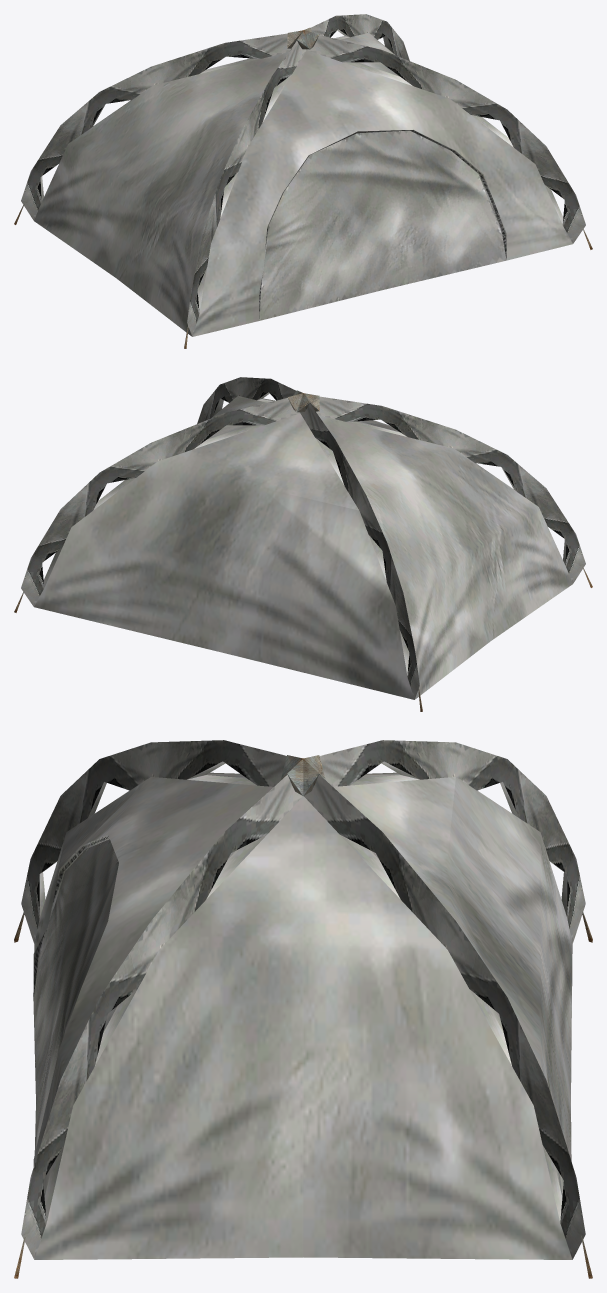
File: eqp_camping_tent_s2_l1.fbx
3 views of the same model, one above another, from view 1: azimuth 30°, elevation 25°; view 2: azimuth 150°, elevation 25°; view 3: azimuth 270°, elevation 25° (orthographic). The views are drawn at different scales.
Parts seen in each view (by area): view 1: mesh_node; view 2: mesh_node; view 3: mesh_node.
Boxes of the visible parts, x1=… form: mesh_node: x1=14, y1=14, x2=592, y2=348; mesh_node: x1=14, y1=377, x2=592, y2=711; mesh_node: x1=14, y1=740, x2=592, y2=1278.
Bounding box in the file's own units: 3.29 × 1.59 × 2.38.
